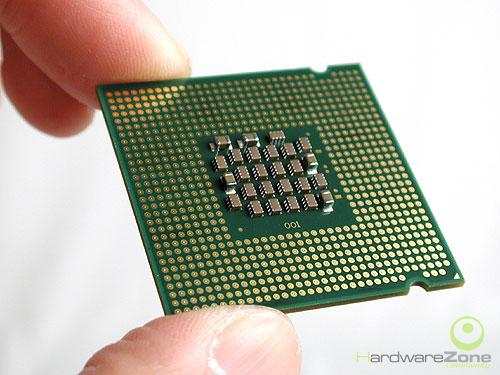processor: (95, 64, 466, 317)
